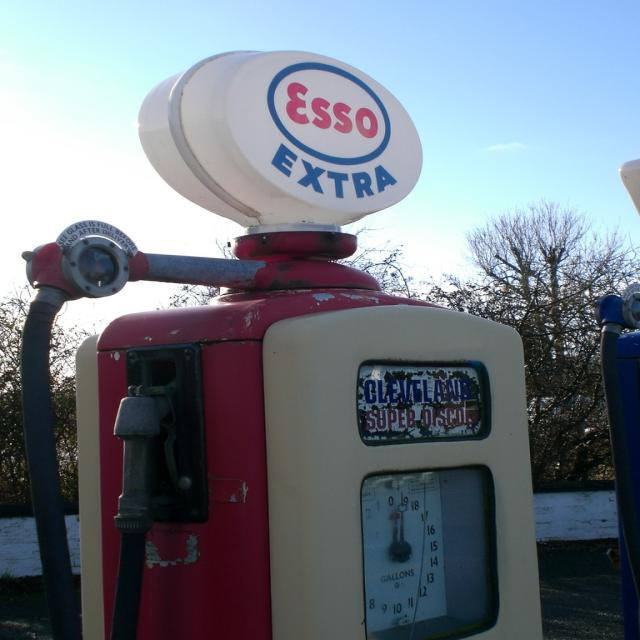esso: (259, 57, 397, 170)
